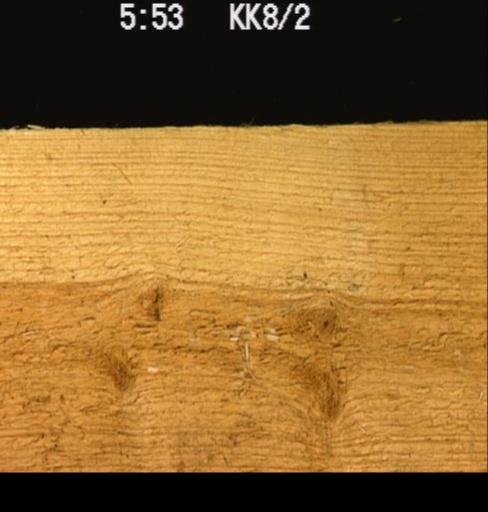sound_knot: (294, 352, 354, 421), (93, 347, 138, 391), (135, 283, 165, 327), (314, 303, 337, 336)
